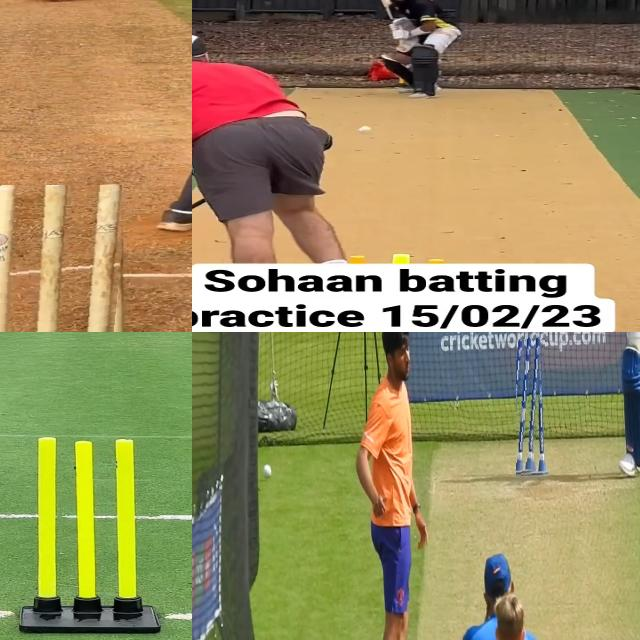Cricket ball: (357, 126, 372, 134), (264, 464, 272, 478)
Stumps: (19, 434, 159, 636), (0, 185, 129, 332), (516, 334, 546, 477)
